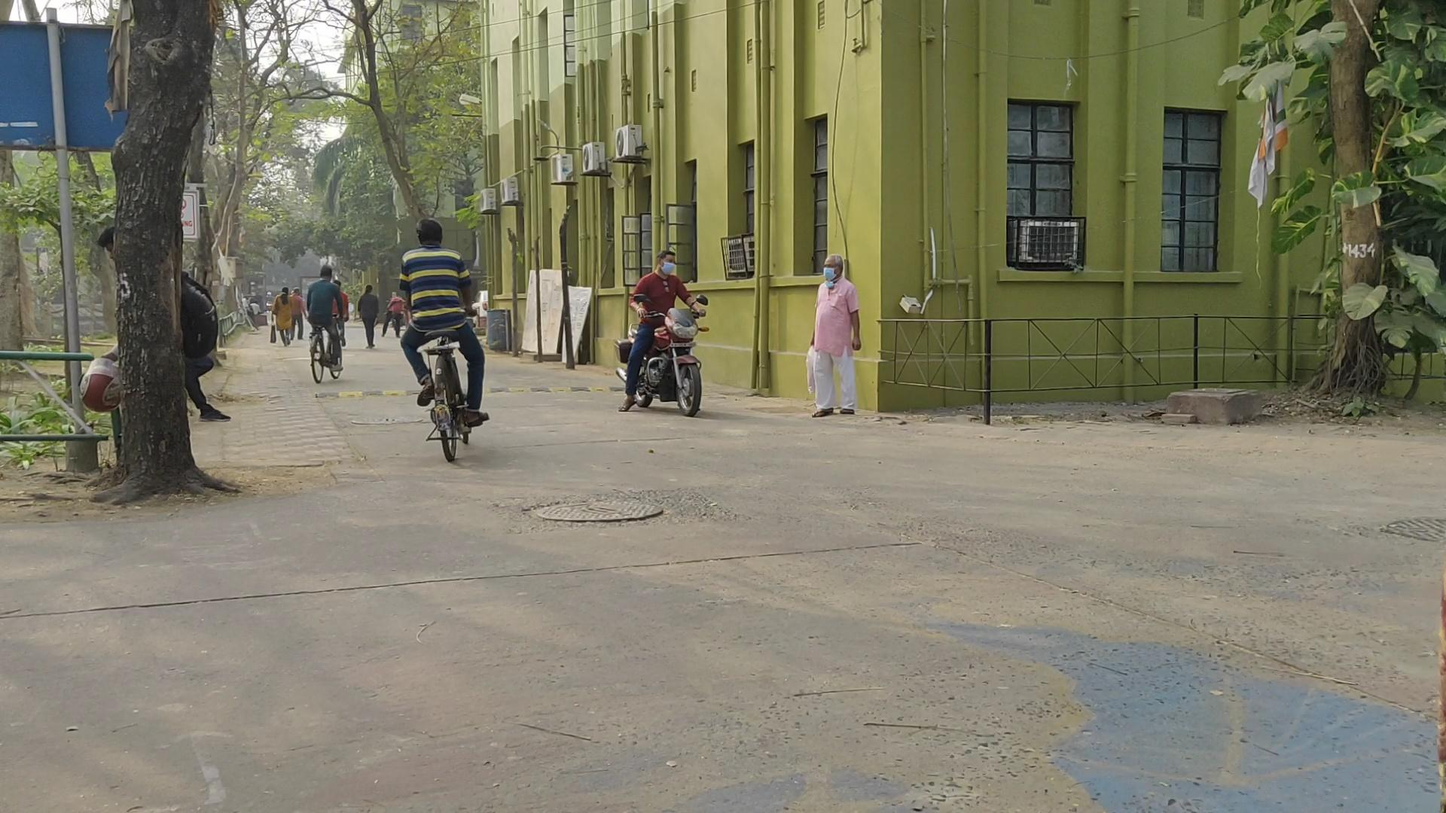bike: (397, 219, 492, 466), (615, 250, 702, 415), (307, 264, 349, 385)
